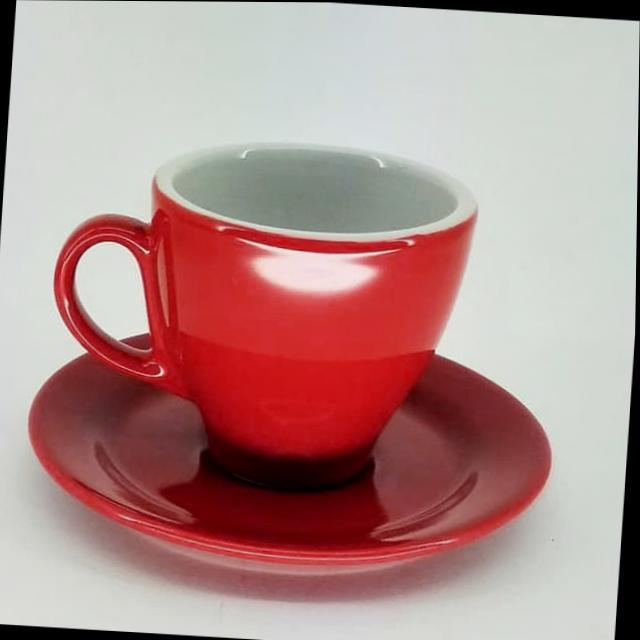cup: (0, 106, 586, 610)
